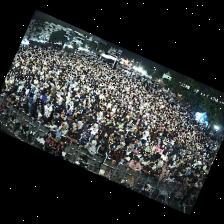person: (96, 144, 108, 168), (66, 127, 79, 142), (42, 102, 51, 123), (127, 158, 140, 172), (110, 149, 121, 165), (51, 99, 60, 118), (107, 138, 117, 155), (55, 122, 67, 136), (83, 140, 95, 154), (59, 104, 69, 120), (62, 115, 72, 131), (140, 163, 152, 176), (46, 118, 59, 130), (36, 88, 45, 104), (78, 128, 89, 140), (150, 168, 161, 180), (34, 107, 43, 121), (78, 135, 88, 147), (165, 172, 175, 184), (86, 115, 96, 127), (81, 110, 90, 123), (19, 99, 28, 112), (72, 121, 81, 134), (26, 92, 32, 111), (89, 124, 97, 138), (143, 151, 153, 162), (160, 165, 170, 175), (7, 93, 16, 104), (173, 175, 184, 184), (99, 133, 108, 144), (29, 103, 36, 117), (119, 157, 129, 166), (125, 144, 133, 155), (91, 135, 99, 146), (139, 156, 147, 167), (144, 144, 153, 153), (43, 92, 49, 105), (49, 86, 55, 99), (155, 158, 162, 169), (107, 133, 115, 142), (129, 150, 137, 159), (157, 174, 165, 182), (116, 142, 124, 150), (136, 149, 143, 158), (81, 118, 86, 130), (151, 160, 157, 170), (182, 177, 187, 189), (177, 168, 185, 175), (54, 149, 61, 157), (96, 111, 101, 121), (160, 152, 167, 159), (2, 92, 8, 100), (161, 159, 167, 167), (121, 147, 125, 158), (32, 91, 36, 102)
